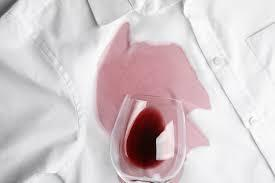oil: (106, 30, 208, 137), (90, 45, 192, 97), (188, 106, 208, 154)
